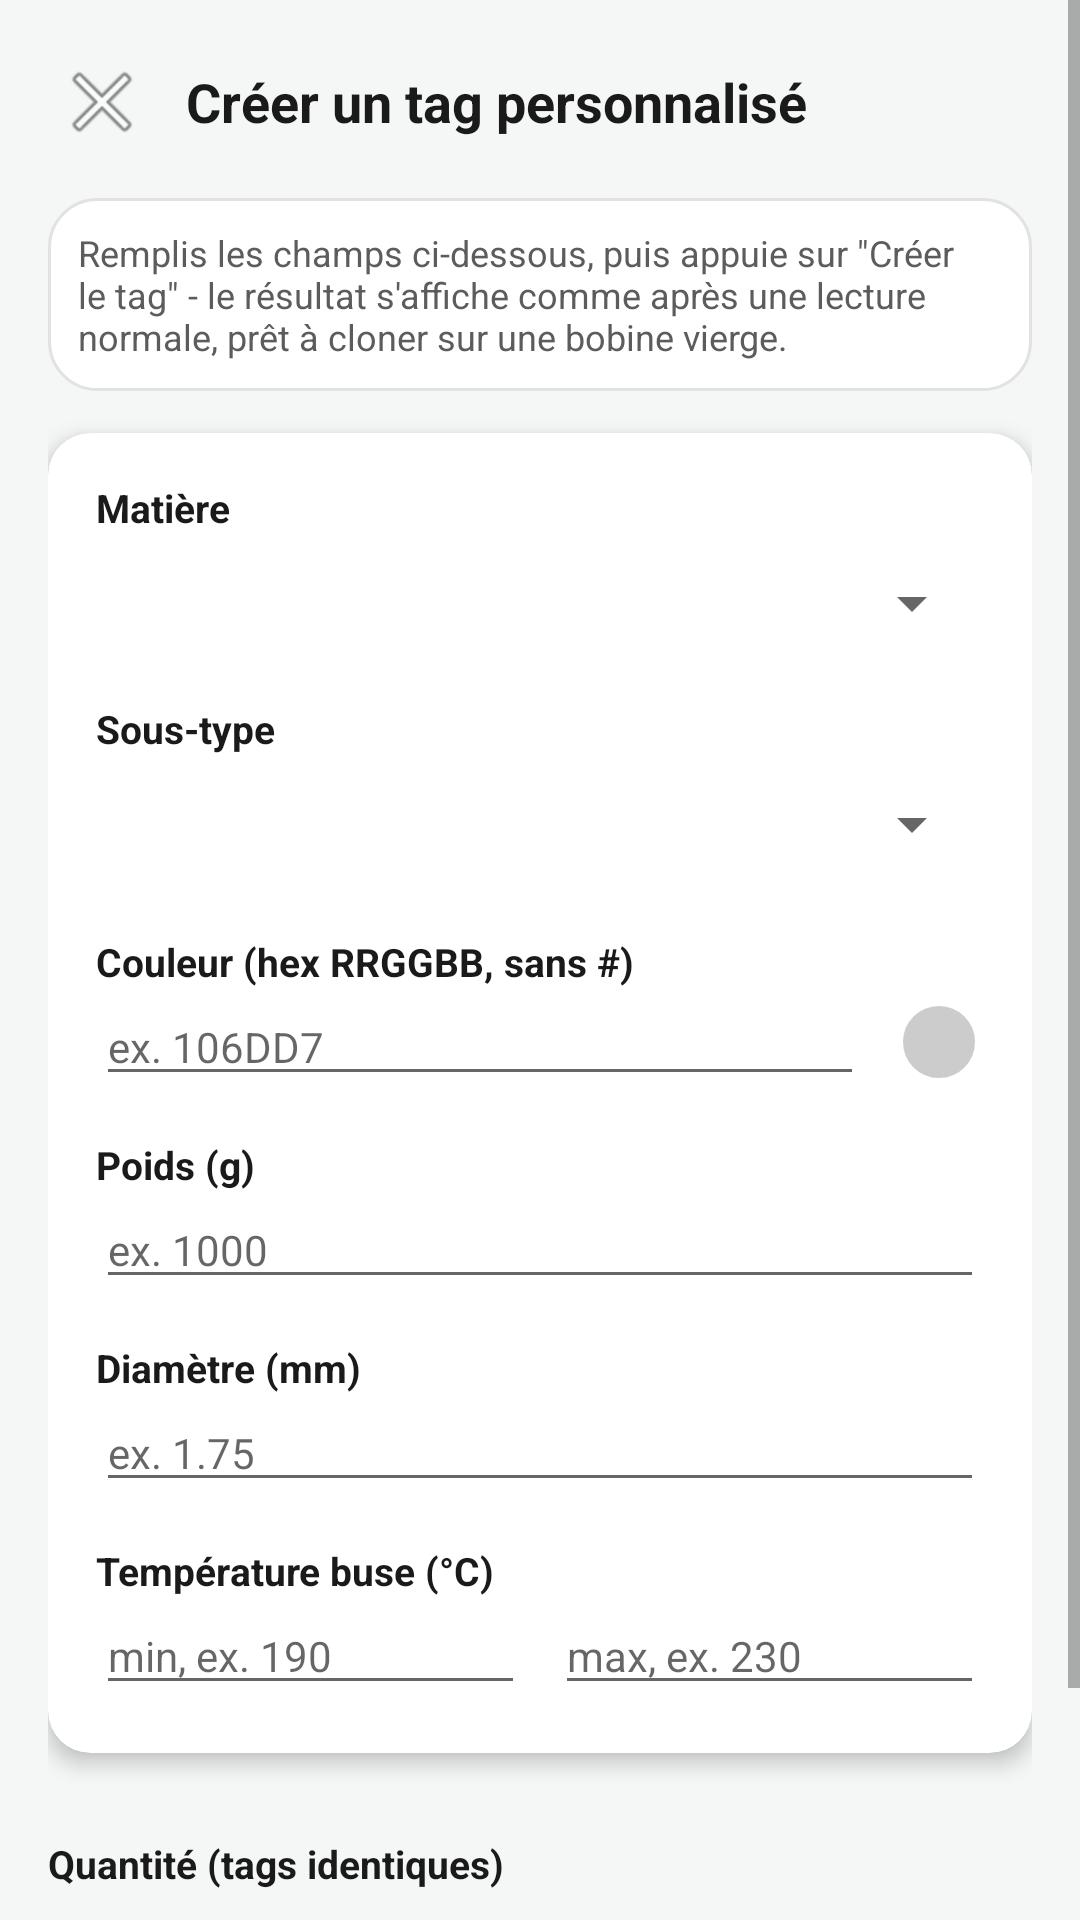

Where to tap for icons on this 1080w x 1920h app screen, as (x=x, y=y):
Retour: (x=102, y=102)
